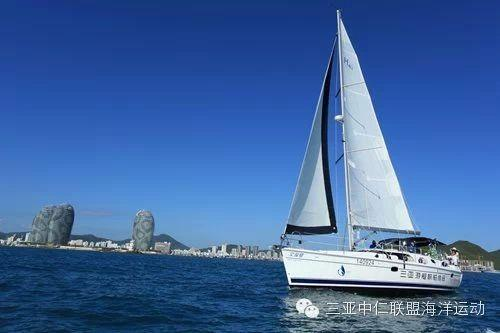fanchuan: (277, 8, 467, 289)
